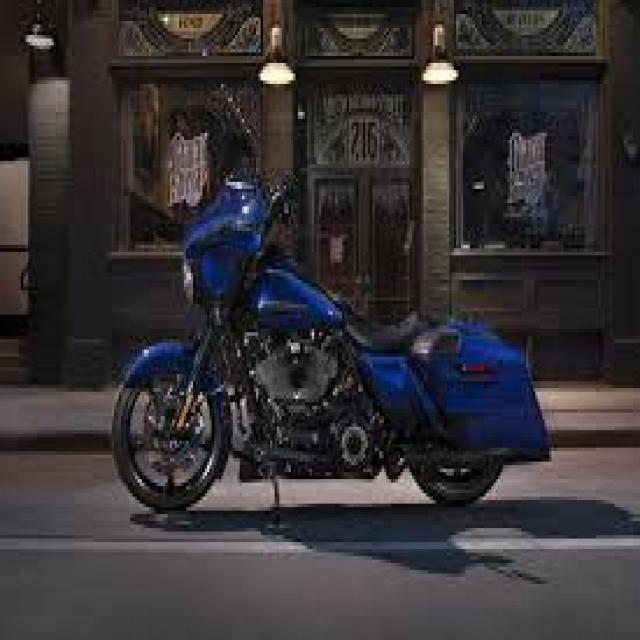Bike: (115, 172, 559, 528)
